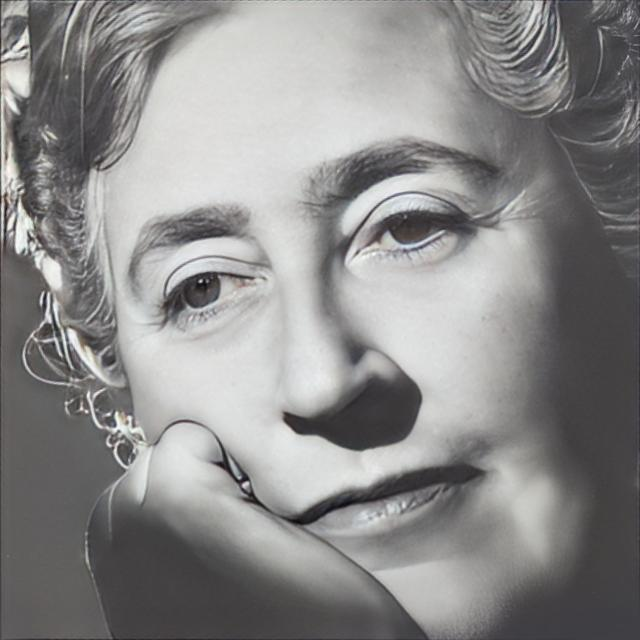neutral: (106, 0, 640, 640)
